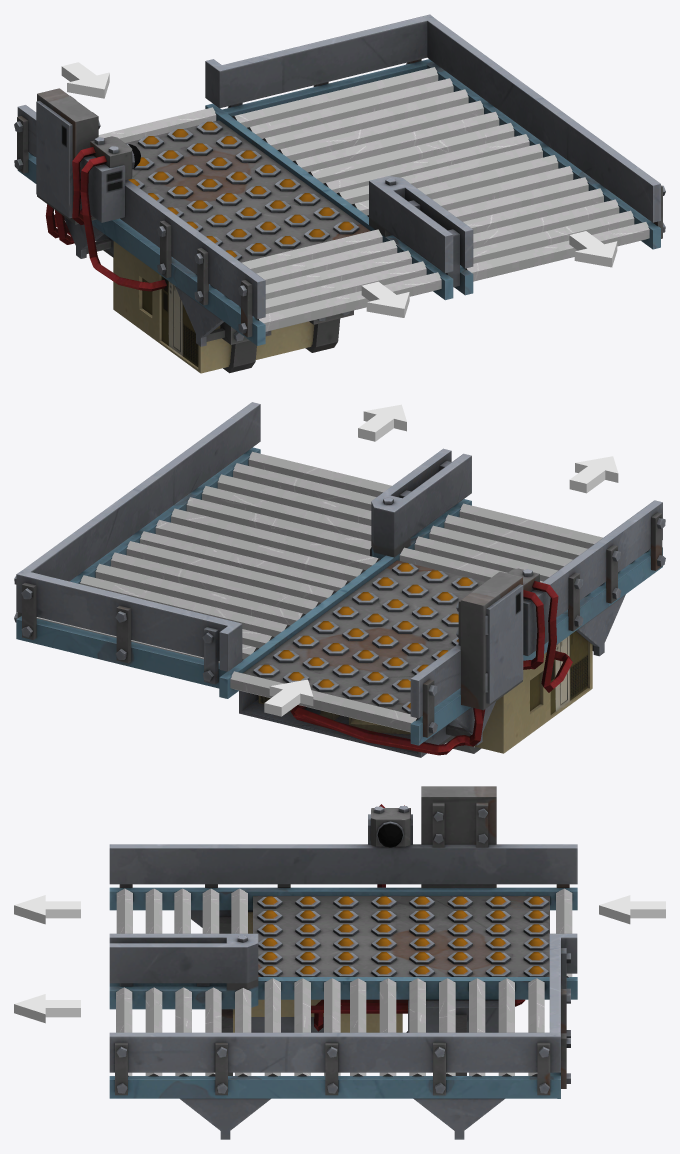
Rendered from RollerConveyorSplitter_Left.glb.
The picture shows the model from 3 angles, top to bottom: view 1: azimuth 30°, elevation 25°; view 2: azimuth 150°, elevation 25°; view 3: azimuth 270°, elevation 25°; orthographic projection. The views are drawn at different scales.
Parts seen in each view (by area): view 1: RollerSplitter_Left-MODEL, ghostarrow, ghostarrow (2), ghostarrow (1); view 2: RollerSplitter_Left-MODEL, ghostarrow (1), ghostarrow, ghostarrow (2); view 3: RollerSplitter_Left-MODEL, ghostarrow (1), ghostarrow (2), ghostarrow.
Part boxes in pixels (x1,y1,x2,y2): RollerSplitter_Left-MODEL: (14, 14, 665, 373); ghostarrow: (361, 281, 409, 317); ghostarrow (2): (569, 231, 617, 267); ghostarrow (1): (61, 62, 109, 98); RollerSplitter_Left-MODEL: (14, 402, 665, 757); ghostarrow (1): (264, 679, 313, 716); ghostarrow: (569, 456, 618, 493); ghostarrow (2): (358, 404, 406, 441); RollerSplitter_Left-MODEL: (109, 786, 577, 1139); ghostarrow (1): (599, 895, 665, 924); ghostarrow (2): (14, 994, 80, 1023); ghostarrow: (14, 895, 80, 924).
Size of the model in its own units: 2.16 by 0.8929 by 2.79.
4 materials, 2 textured.
